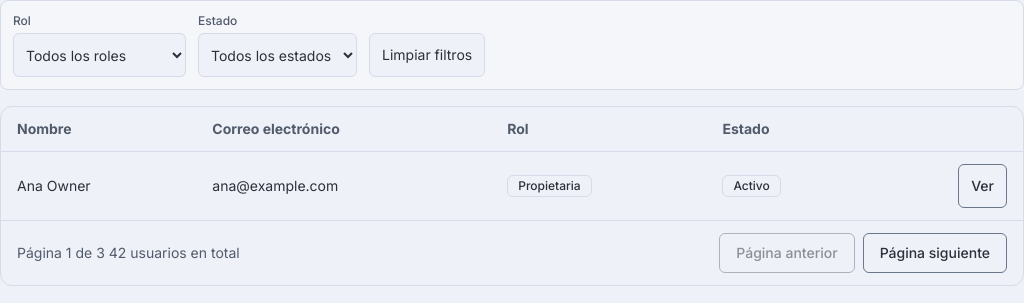
Scenario: UserList (R1.1, R1.2, R1.3) › pagination (R1.1) › goes back on 'previous'
What coordinates should you click on to do the following:
click the button "Página siguiente"
I would click on:
 (935, 253)
Its box is [863,233,1007,273].
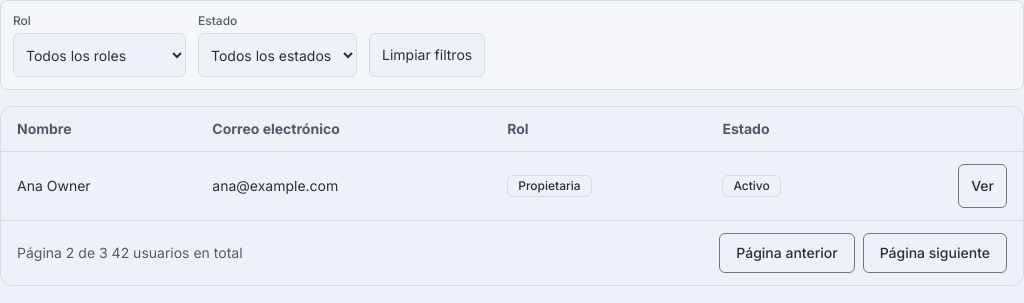
What coordinates should you click on to do the following:
click the button "Página anterior"
I would click on:
 (787, 253)
Its box is [719,233,855,273].
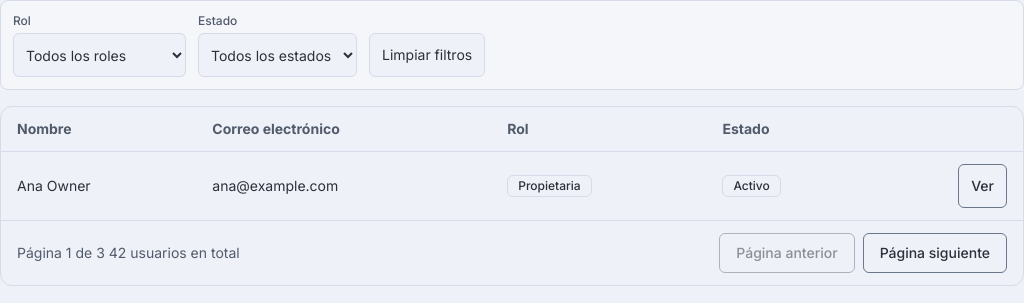
Now the text "Página 1 de 3 42 usuarios en total" is shown, box [17,243,240,263]
